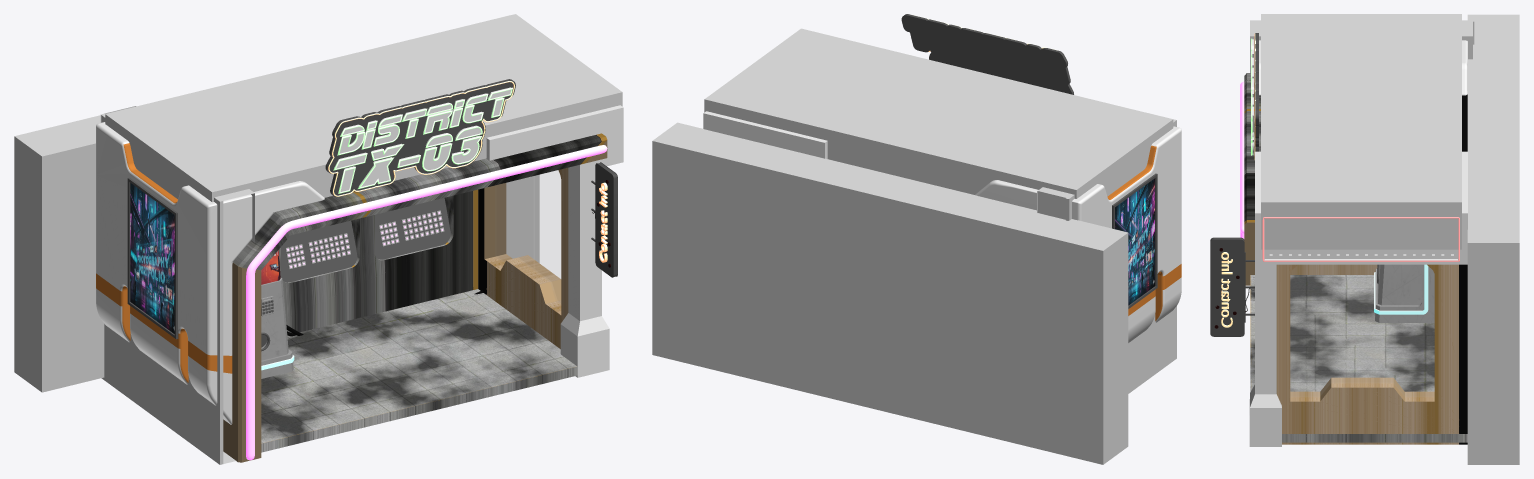
File: cyberpunk_station.glb
3 renders of one model, left to right at view 1: azimuth 30°, elevation 25°; view 2: azimuth 150°, elevation 25°; view 3: azimuth 270°, elevation 25°, orthographic. The views are drawn at different scales.
Parts seen in each view (by area): view 1: Cube.001, wall.001, Plane_PISO_0, Cube.005, Plane.004_Material.013_0, bounding_box_l, Cube.009__0, Plane.015_Material.002_0, Curve.001_Material.006_0, photography_portfolio, Plane.019_Material.010_0, Curve.003__0 (+10 smaller); view 2: Cube.005, Cube.001, Plane.004_Material.013_0, Curve.001_Material.006_0, bounding_box_l, photography_portfolio, Plane.008_Material.014_0, Cube.001_Material.009_0.001; view 3: Cube.001, Cube.005, wall.001, Plane.015_Material.002_0, Plane_PISO_0, Cube.009__0, Plane.004_Material.013_0, sign_neon_small_vert_Material.006_0.001, Plane.016_Material.008_0, Cube.013_Material.019_0, Plane.019_Material.010_0, bounding_box_l (+3 smaller).
Boxes of the visible parts, x1=… form: Cube.001: x1=105, y1=14, x2=622, y2=202; wall.001: x1=223, y1=133, x2=607, y2=462; Plane_PISO_0: x1=261, y1=289, x2=577, y2=452; Cube.005: x1=14, y1=15, x2=539, y2=392; Plane.004_Material.013_0: x1=96, y1=105, x2=623, y2=424; bounding_box_l: x1=100, y1=106, x2=254, y2=464; Cube.009__0: x1=560, y1=159, x2=609, y2=377; Plane.015_Material.002_0: x1=497, y1=171, x2=560, y2=301; Curve.001_Material.006_0: x1=325, y1=79, x2=515, y2=196; photography_portfolio: x1=130, y1=183, x2=174, y2=333; Plane.019_Material.010_0: x1=246, y1=145, x2=607, y2=460; Curve.003__0: x1=334, y1=87, x2=510, y2=191; Cube.005: x1=652, y1=122, x2=1128, y2=464; Cube.001: x1=704, y1=28, x2=1173, y2=198; Plane.004_Material.013_0: x1=703, y1=111, x2=1181, y2=342; Curve.001_Material.006_0: x1=901, y1=14, x2=1073, y2=94; bounding_box_l: x1=1037, y1=119, x2=1176, y2=393; photography_portfolio: x1=1115, y1=178, x2=1154, y2=305; Plane.008_Material.014_0: x1=1107, y1=145, x2=1181, y2=320; Cube.001_Material.009_0.001: x1=1112, y1=173, x2=1157, y2=308; Cube.001: x1=1261, y1=14, x2=1461, y2=249; Cube.005: x1=1467, y1=14, x2=1519, y2=464; wall.001: x1=1244, y1=73, x2=1467, y2=444; Plane.015_Material.002_0: x1=1291, y1=265, x2=1433, y2=395; Plane_PISO_0: x1=1250, y1=275, x2=1467, y2=442; Cube.009__0: x1=1249, y1=249, x2=1460, y2=446; Plane.004_Material.013_0: x1=1255, y1=40, x2=1467, y2=264; sign_neon_small_vert_Material.006_0.001: x1=1210, y1=237, x2=1254, y2=336; Plane.016_Material.008_0: x1=1375, y1=264, x2=1434, y2=322; Cube.013_Material.019_0: x1=1262, y1=217, x2=1459, y2=261; Plane.019_Material.010_0: x1=1240, y1=82, x2=1244, y2=238; bounding_box_l: x1=1250, y1=20, x2=1474, y2=72.
Size of the model in its own units: 5.38 by 3.22 by 3.08.
Materials: 24 (7 with a texture image).
